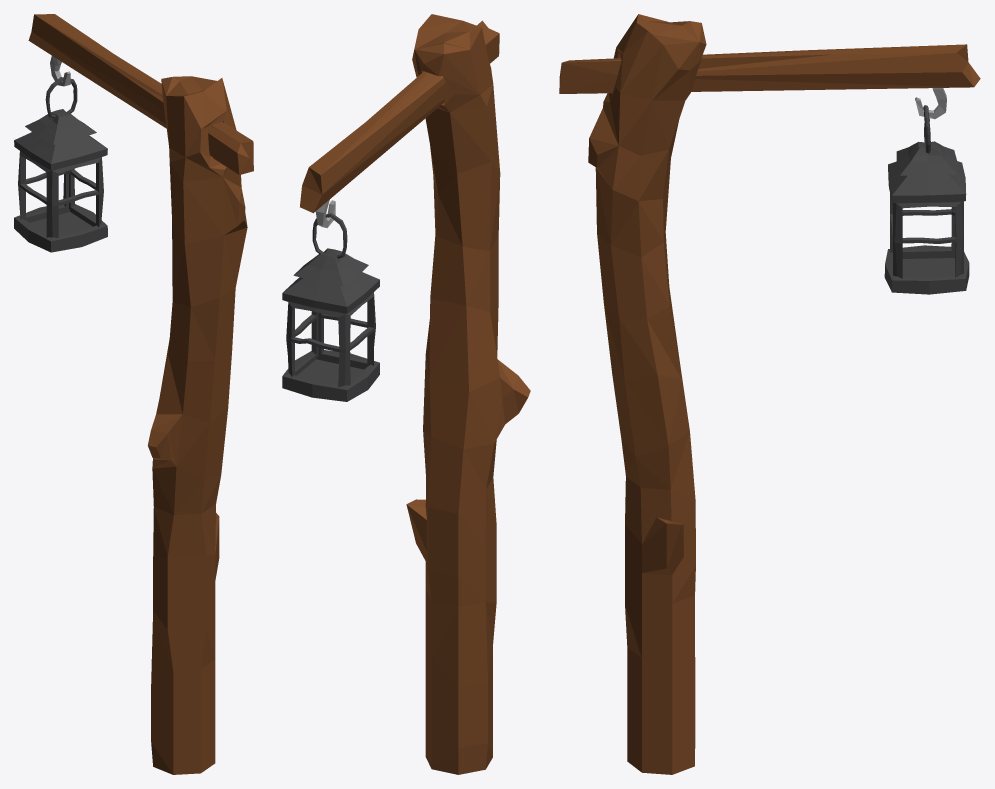
3 renders of one model, left to right at view 1: azimuth 30°, elevation 25°; view 2: azimuth 150°, elevation 25°; view 3: azimuth 270°, elevation 25°, orthographic. The views are drawn at different scales.
Visible parts, largest first — view 1: LanternLargeStem, Lantern, LaternHang; view 2: LanternLargeStem, Lantern, LaternHang; view 3: LanternLargeStem, LaternHang, Lantern.
Part boxes in pixels (bbox=[...]): LanternLargeStem: bbox=[147, 76, 247, 774]; Lantern: bbox=[14, 109, 107, 252]; LaternHang: bbox=[28, 14, 253, 174]; LanternLargeStem: bbox=[406, 14, 530, 774]; Lantern: bbox=[282, 248, 379, 401]; LaternHang: bbox=[300, 20, 499, 213]; LanternLargeStem: bbox=[588, 14, 706, 774]; LaternHang: bbox=[559, 44, 980, 93]; Lantern: bbox=[884, 141, 969, 294].
Size of the model in its own units: 0.9786 by 6.96 by 3.56.
